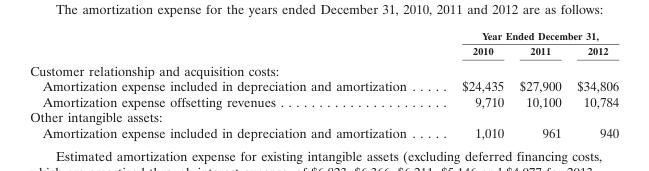table: (29, 28, 618, 140)
table column: (29, 28, 433, 140), (433, 28, 511, 140), (511, 28, 568, 140), (568, 28, 618, 140)
table column header: (29, 28, 618, 59)
table projected row header: (29, 59, 618, 78), (29, 109, 618, 124)
table row: (29, 59, 618, 78), (29, 42, 618, 59), (29, 93, 618, 109), (29, 124, 618, 140), (29, 78, 618, 93), (29, 109, 618, 124), (29, 28, 618, 42)
table spanning cell: (433, 28, 618, 42)
